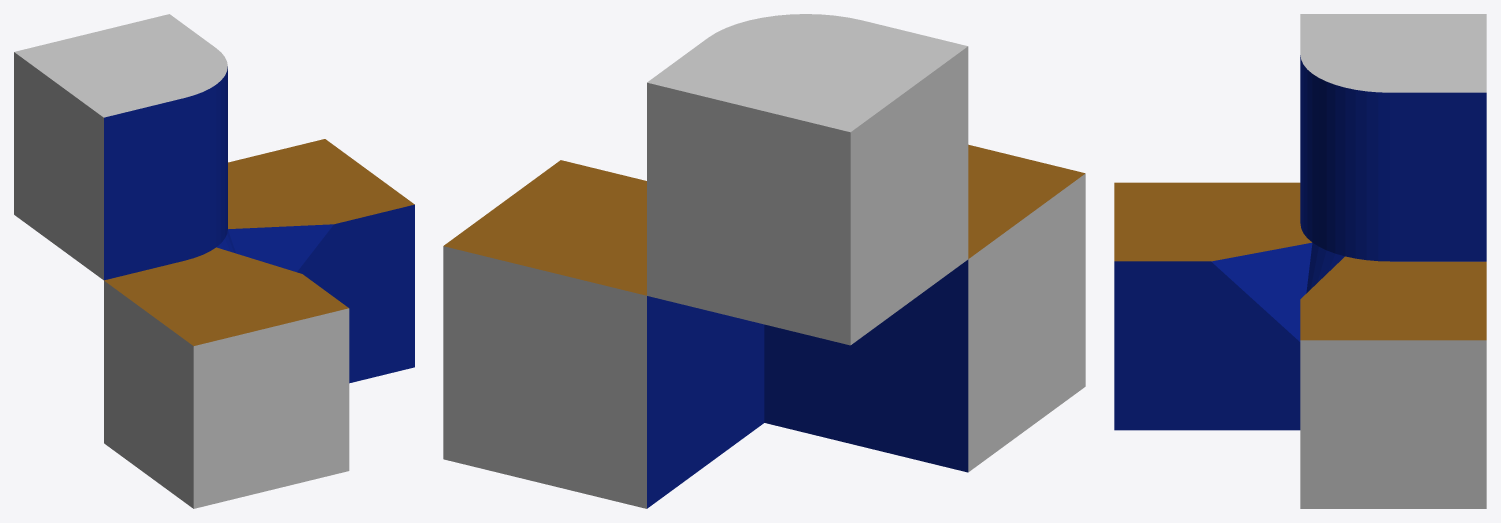
The model's file is case_26.fbx.
3 renders of one model, left to right at view 1: azimuth 30°, elevation 25°; view 2: azimuth 150°, elevation 25°; view 3: azimuth 270°, elevation 25°, orthographic. The views are drawn at different scales.
Parts seen in each view (by area): view 1: case_26; view 2: case_26; view 3: case_26.
Part boxes in pixels (bbox=[...]): case_26: bbox=[14, 14, 414, 508]; case_26: bbox=[443, 14, 1085, 508]; case_26: bbox=[1114, 14, 1486, 508].
Bounding box in the file's own units: 1 × 1 × 1.
